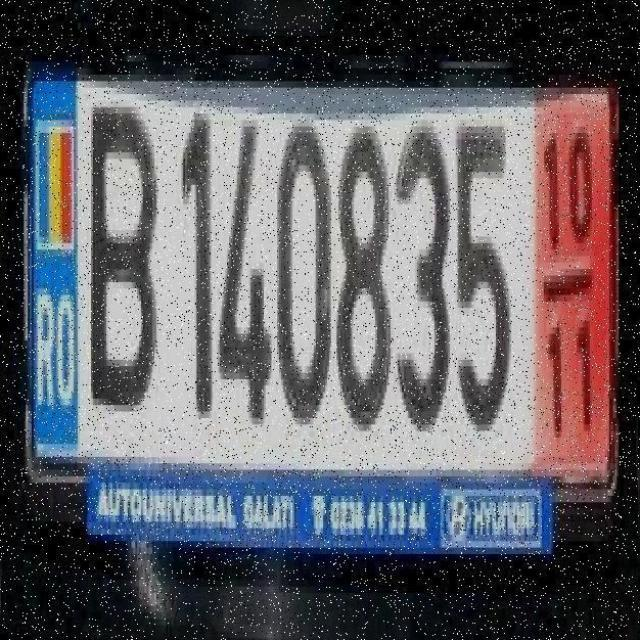license-plate: (30, 81, 618, 547)
